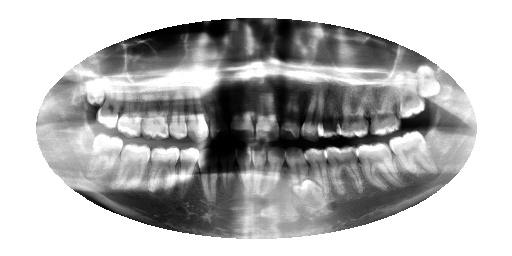Cavity: (231, 89, 255, 142), (280, 85, 301, 144), (209, 88, 227, 140)
